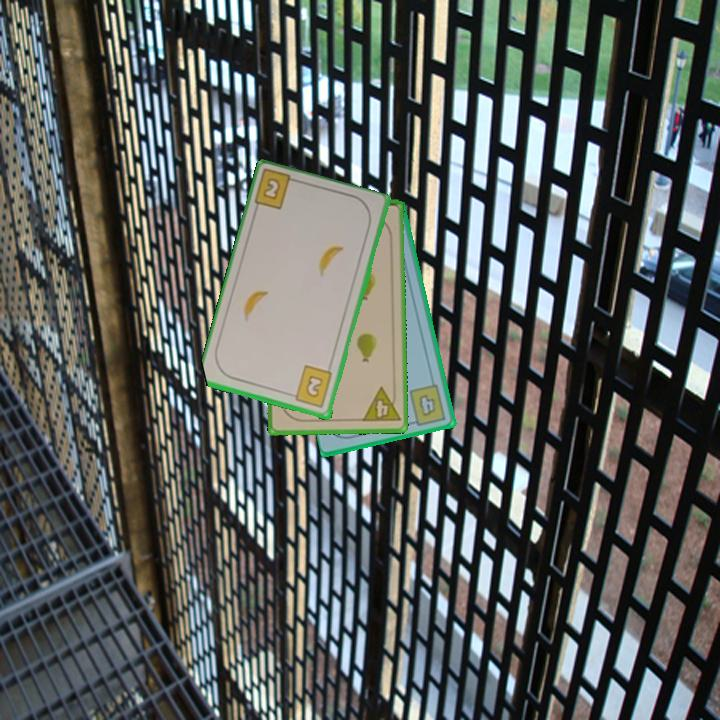2b: (286, 363, 335, 411), (251, 168, 303, 213)
4b: (406, 381, 449, 428)
4p: (359, 384, 403, 425)
